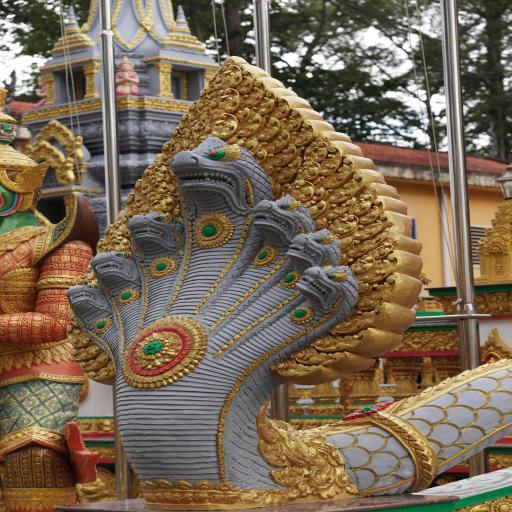ran: (62, 46, 512, 512)
than: (0, 88, 114, 512), (106, 41, 153, 95)
